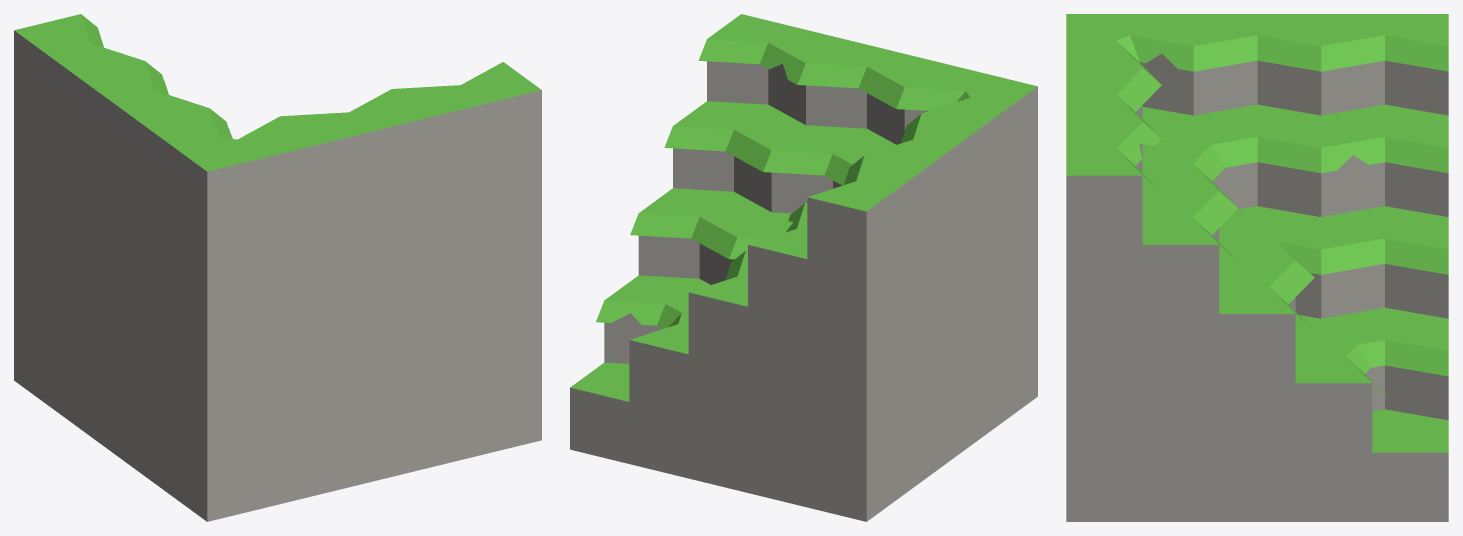
File: cliff_stepsCornerInner_stone.glb
3 renders of one model, left to right at view 1: azimuth 30°, elevation 25°; view 2: azimuth 150°, elevation 25°; view 3: azimuth 270°, elevation 25°, orthographic. The views are drawn at different scales.
Parts seen in each view (by area): view 1: cliff_stepsCornerInner_stone; view 2: cliff_stepsCornerInner_stone; view 3: cliff_stepsCornerInner_stone.
Boxes of the visible parts, bbox=[...] form: cliff_stepsCornerInner_stone: bbox=[14, 14, 541, 521]; cliff_stepsCornerInner_stone: bbox=[570, 14, 1037, 521]; cliff_stepsCornerInner_stone: bbox=[1066, 14, 1448, 521].
Size of the model in its own units: 1 by 1 by 1.
